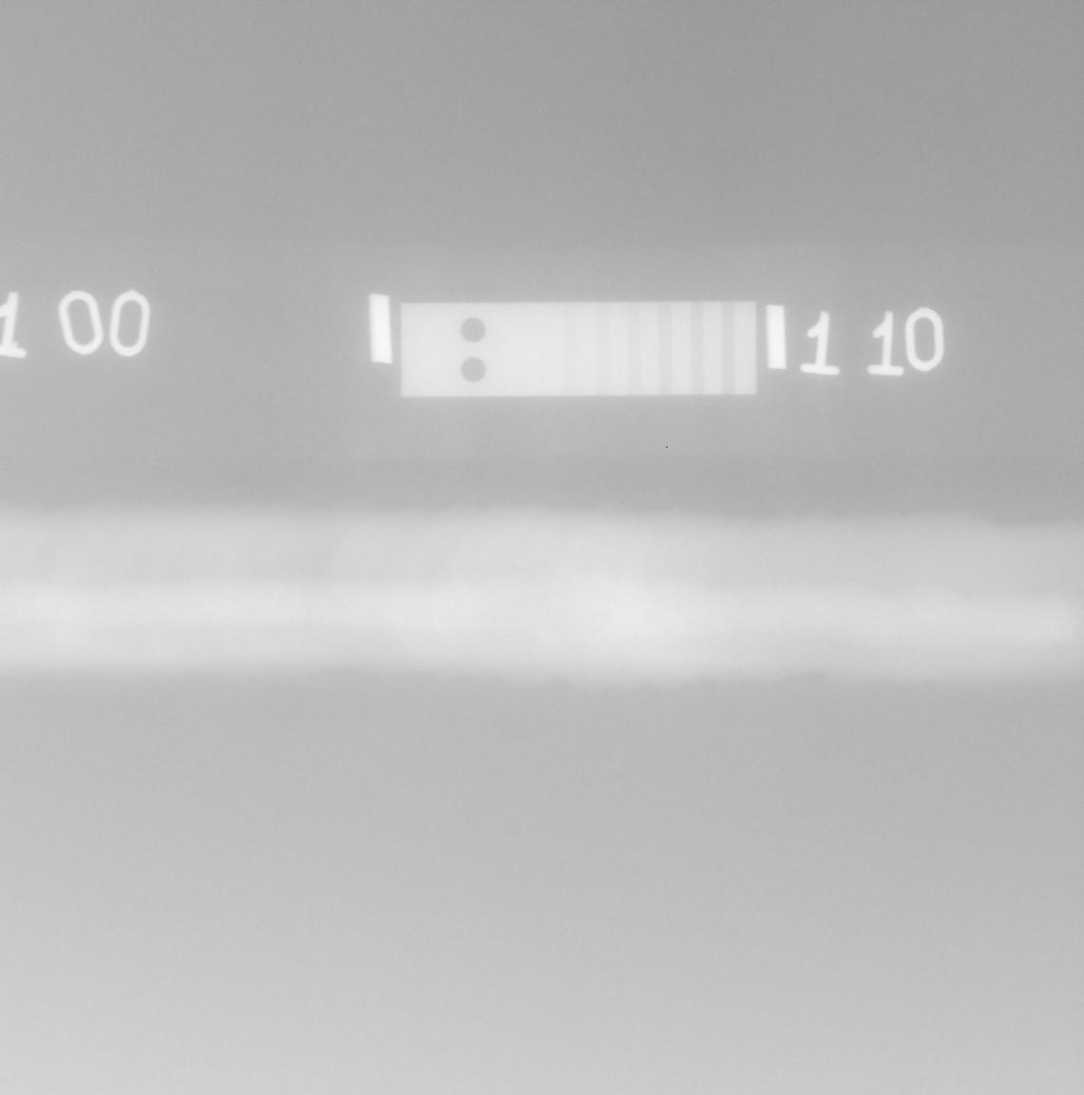Pore/Porosity: (655, 570, 662, 576)
Reference Standard 2: (399, 300, 757, 397)
